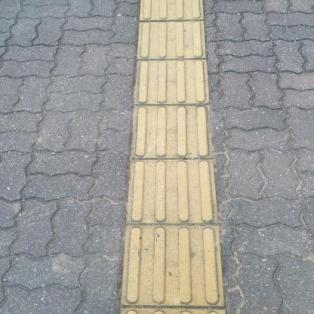Podoctatil: (113, 0, 236, 313)
